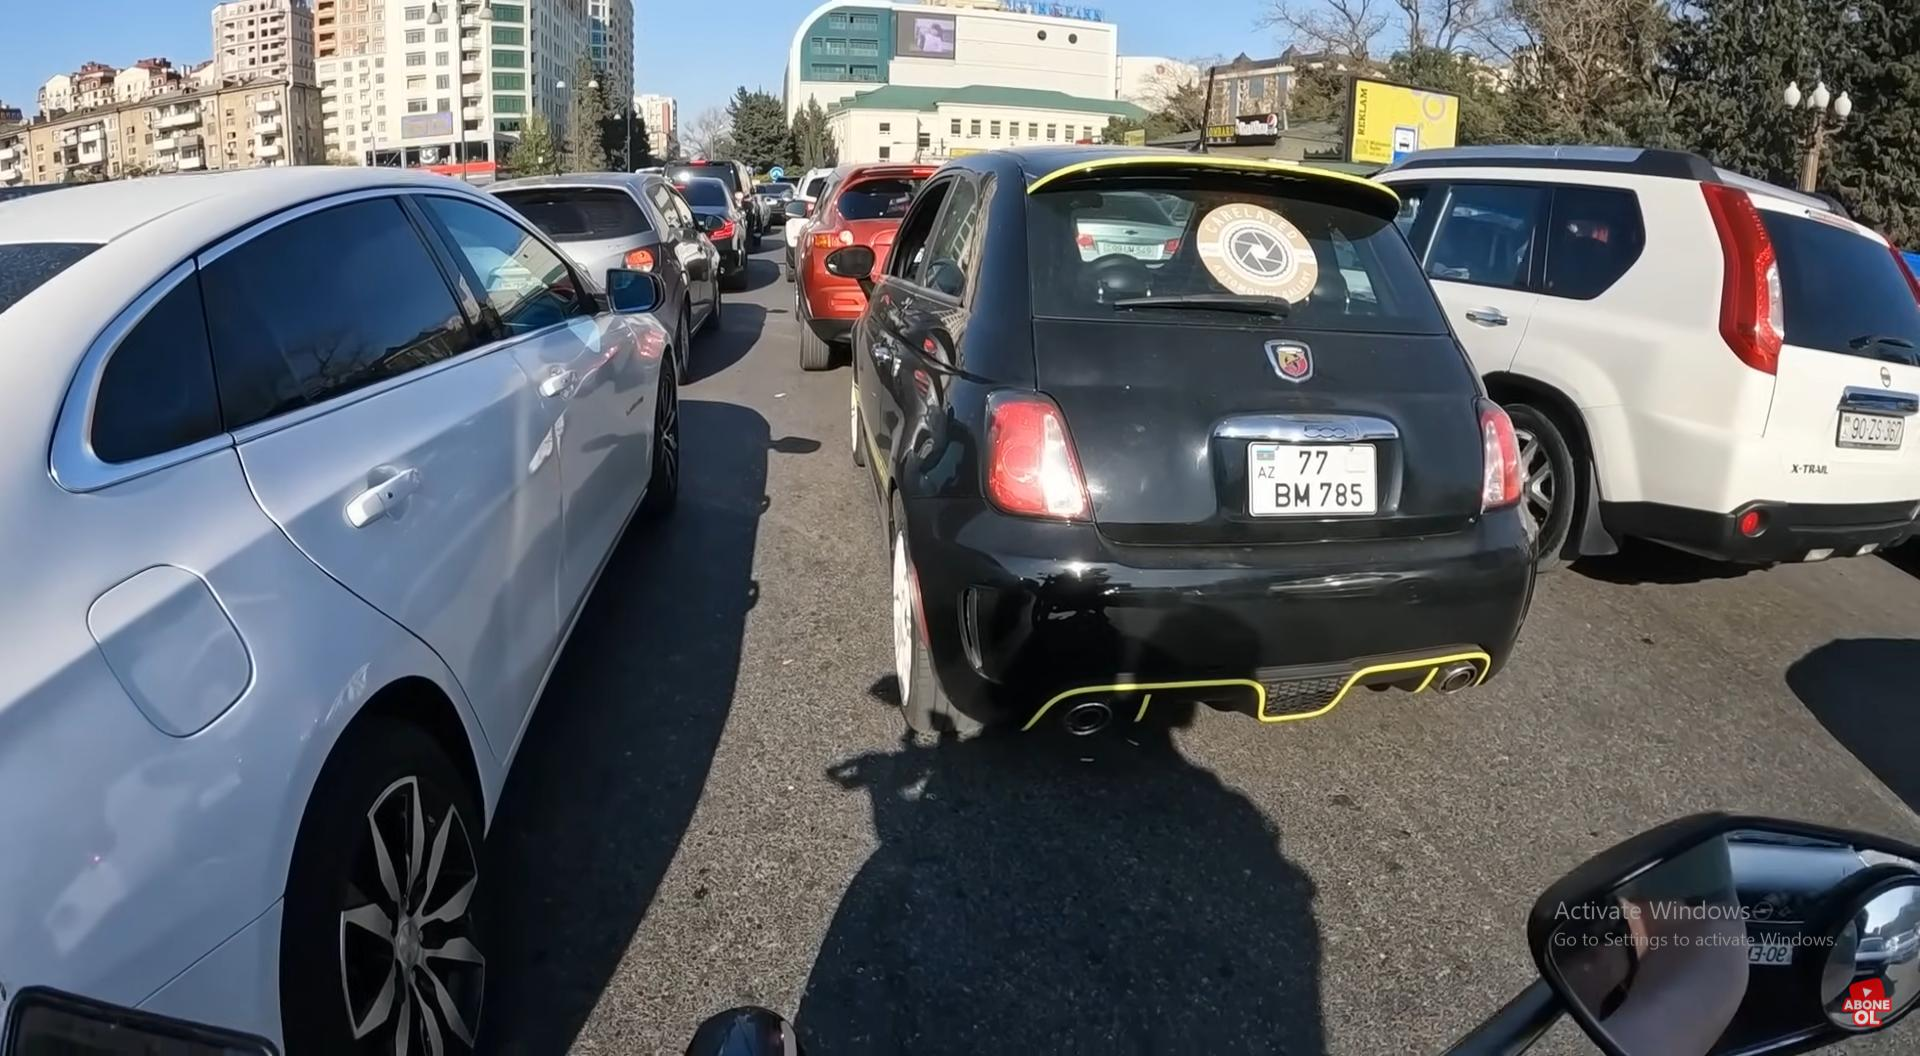banner: (1344, 70, 1483, 184)
